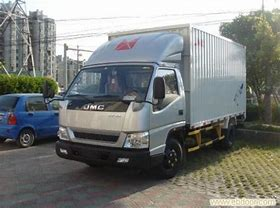smalltruck: (46, 19, 250, 174)
